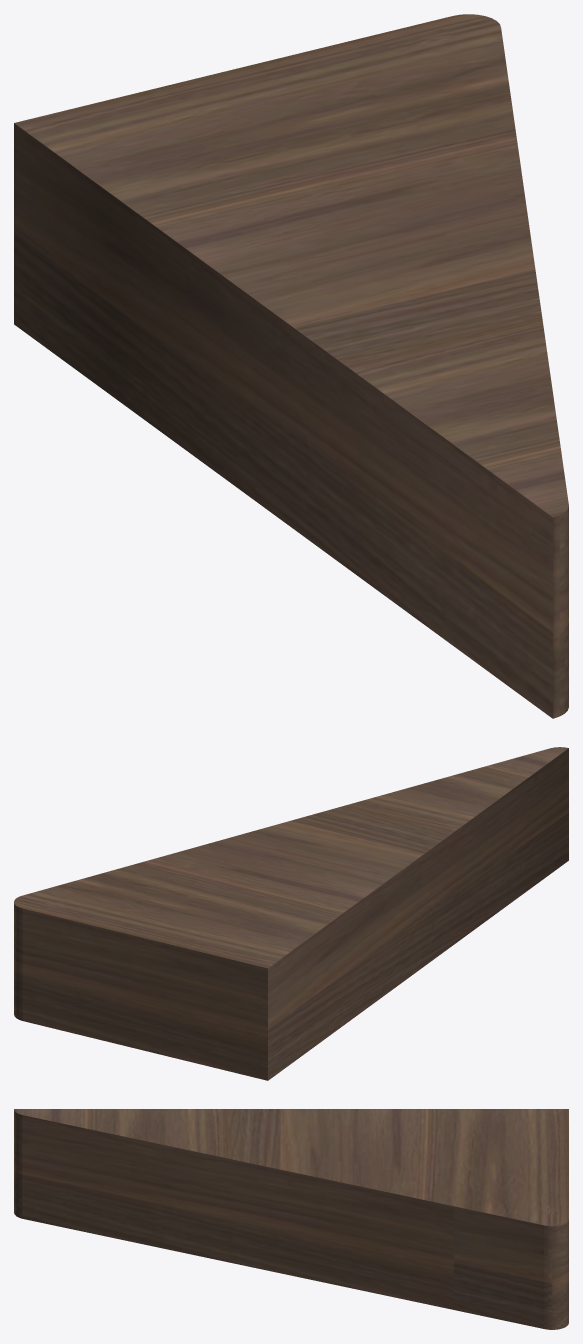
Rendered from half_triangle_walnut.fbx.
3 views of the same model, one above another, from view 1: azimuth 30°, elevation 25°; view 2: azimuth 150°, elevation 25°; view 3: azimuth 270°, elevation 25° (orthographic). The views are drawn at different scales.
Parts seen in each view (by area): view 1: Model; view 2: Model; view 3: Model.
Part boxes in pixels (x1=…): Model: x1=14, y1=14, x2=568, y2=718; Model: x1=14, y1=747, x2=568, y2=1080; Model: x1=14, y1=1109, x2=568, y2=1329.
Bounding box in the file's own units: 2.42 × 1 × 4.85.
